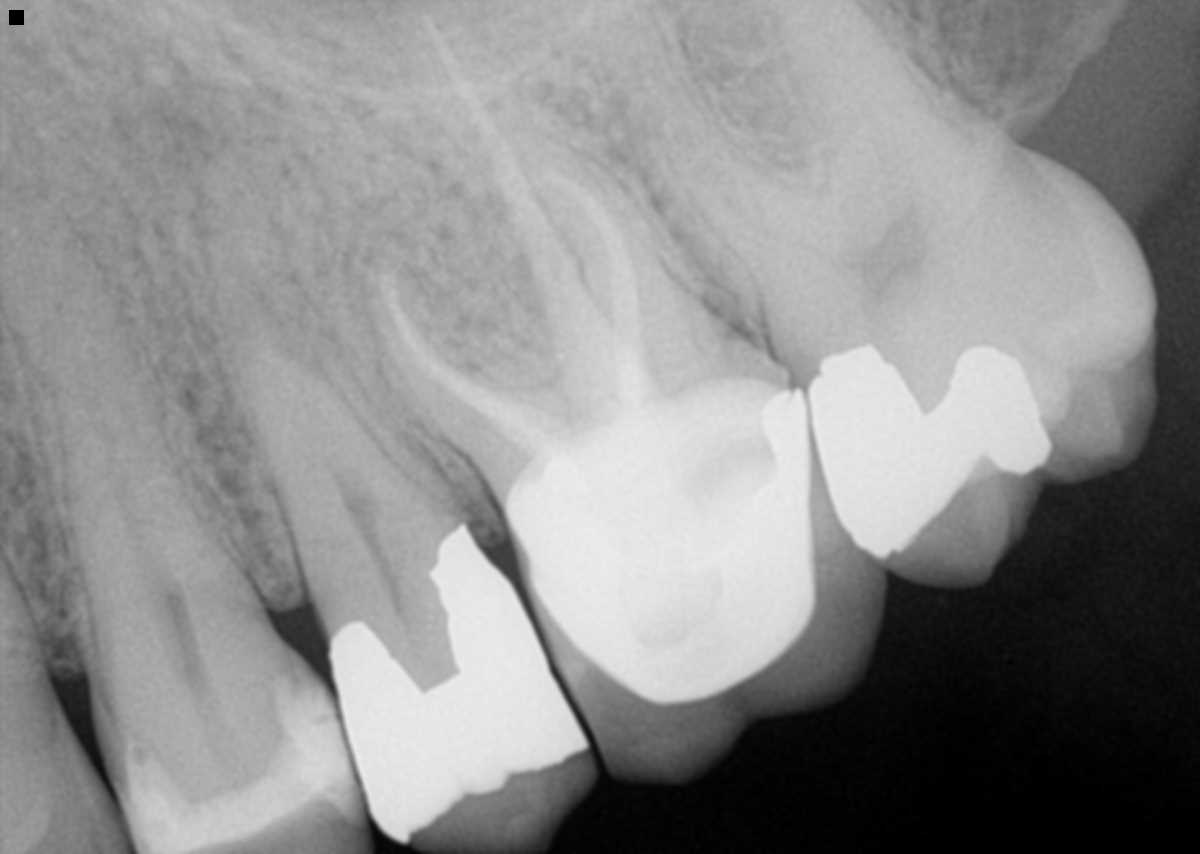Distal Canal: (812, 11, 903, 197)
Distal Root: (516, 128, 727, 416), (766, 0, 949, 165)
Main Canal: (102, 429, 186, 629), (329, 464, 397, 586)
Main Root: (203, 138, 468, 603), (0, 183, 246, 676), (0, 548, 48, 675)
Mesial Canal: (684, 140, 837, 269)
Mesial Root: (359, 175, 578, 497), (595, 0, 799, 309)
Palatal Root: (390, 0, 710, 480)
Root Canal Filling: (417, 16, 652, 426), (381, 272, 567, 455), (544, 170, 644, 404)
